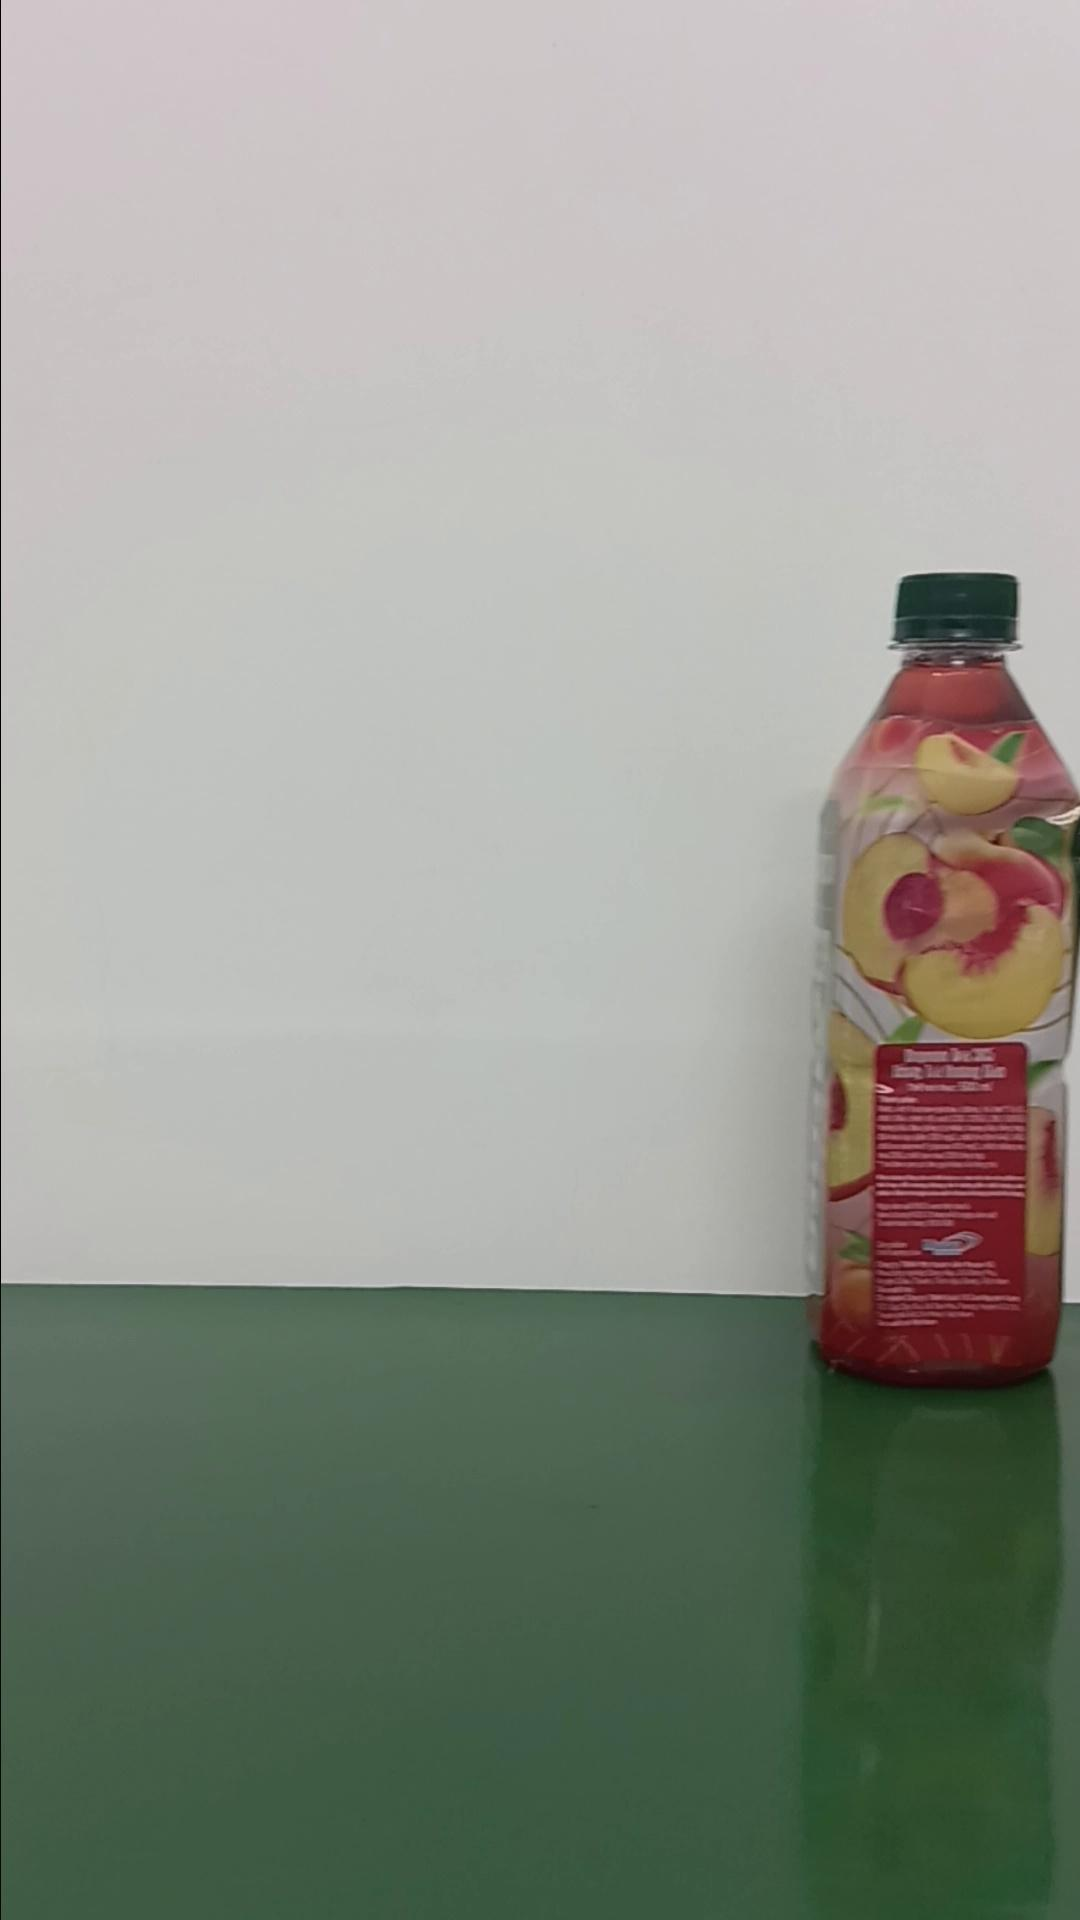loi meo sp: (808, 568, 1076, 1389)
